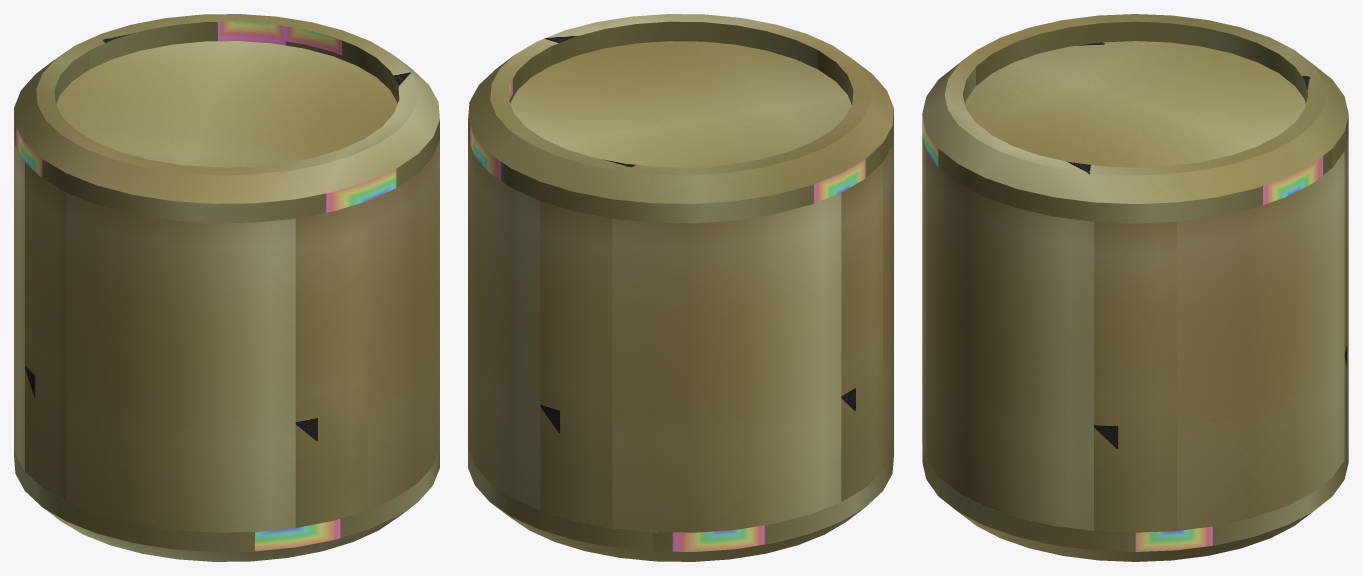
Rendered from block_player.obj.
The picture shows the model from 3 angles, left to right: view 1: azimuth 30°, elevation 25°; view 2: azimuth 150°, elevation 25°; view 3: azimuth 270°, elevation 25°; orthographic projection.
Visible parts, largest first — view 1: Cylinder.001, Cylinder.005, Cylinder.003_Cylinder.002, Cylinder.000; view 2: Cylinder.000, Cylinder.005, Cylinder.002_Cylinder.003, Cylinder.001; view 3: Cylinder.005, Cylinder.002_Cylinder.003, Cylinder.003_Cylinder.002, Cylinder.000.
Part boxes in pixels (<box>): Cylinder.001: <box>25,162,295,532</box>; Cylinder.005: <box>14,14,439,561</box>; Cylinder.003_Cylinder.002: <box>295,139,439,527</box>; Cylinder.000: <box>14,129,24,470</box>; Cylinder.000: <box>540,193,841,532</box>; Cylinder.005: <box>468,14,893,561</box>; Cylinder.002_Cylinder.003: <box>468,139,540,510</box>; Cylinder.001: <box>841,129,893,501</box>; Cylinder.005: <box>922,14,1348,561</box>; Cylinder.002_Cylinder.003: <box>1094,151,1344,532</box>; Cylinder.003_Cylinder.002: <box>922,135,1093,530</box>; Cylinder.000: <box>1344,134,1348,459</box>.
Bounding box in the file's own units: 1 × 1 × 1.
